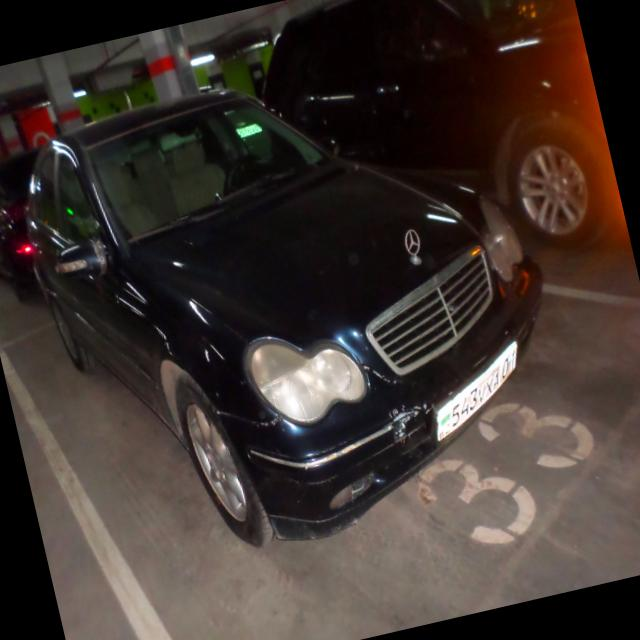Rayure: (210, 387, 292, 457), (377, 395, 442, 439), (358, 352, 414, 402)
